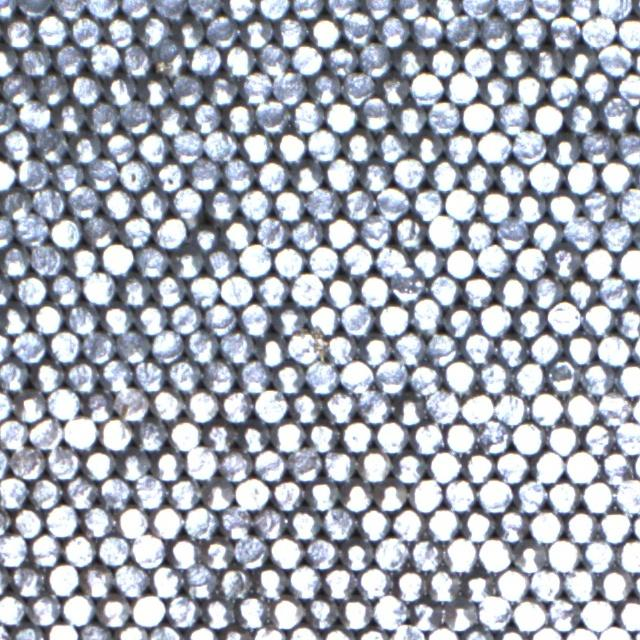tool: (114, 562, 148, 596), (268, 534, 302, 568), (240, 128, 274, 162), (444, 69, 478, 103), (580, 597, 614, 631), (234, 533, 268, 567), (238, 302, 272, 336), (203, 301, 237, 335), (305, 419, 339, 453), (28, 532, 62, 566), (65, 243, 99, 277), (512, 129, 546, 163), (131, 532, 165, 566), (238, 242, 272, 276), (546, 596, 580, 630), (496, 100, 530, 134), (356, 564, 390, 598), (478, 14, 512, 48), (166, 593, 200, 627), (80, 563, 114, 597), (581, 130, 615, 164), (305, 358, 339, 392), (342, 128, 376, 162), (254, 99, 288, 133), (203, 128, 237, 162), (444, 598, 478, 632), (202, 358, 236, 392), (16, 97, 50, 131), (252, 564, 286, 598), (528, 391, 562, 425), (269, 595, 303, 629), (478, 537, 512, 571), (408, 362, 442, 396), (374, 359, 408, 393), (357, 388, 391, 422), (477, 129, 511, 163), (34, 128, 68, 162), (579, 361, 613, 395), (130, 592, 164, 626), (563, 567, 597, 601), (64, 473, 97, 508), (152, 42, 187, 75), (425, 330, 458, 365), (341, 358, 374, 392), (546, 358, 579, 392), (63, 532, 96, 566), (290, 329, 323, 363), (581, 479, 614, 513), (545, 422, 579, 455), (443, 244, 476, 278), (66, 185, 100, 218), (530, 450, 564, 483), (599, 158, 632, 192), (188, 156, 221, 190), (392, 330, 425, 364), (512, 361, 546, 394), (341, 301, 374, 335), (357, 448, 391, 481), (31, 300, 64, 334), (28, 475, 62, 508), (478, 478, 511, 512), (16, 156, 50, 189), (478, 302, 511, 336), (116, 504, 149, 538), (342, 70, 375, 104), (253, 505, 286, 539), (512, 597, 545, 631), (306, 243, 339, 277), (12, 562, 45, 596), (340, 418, 373, 452), (564, 508, 597, 542), (598, 509, 632, 542), (547, 479, 580, 513), (81, 504, 114, 538), (186, 329, 219, 363), (460, 331, 494, 364), (461, 508, 494, 542), (495, 216, 529, 249), (547, 244, 581, 277), (82, 270, 115, 304), (597, 42, 631, 75), (565, 449, 598, 483), (206, 72, 239, 106), (288, 564, 322, 597), (547, 300, 580, 334), (359, 98, 392, 132), (81, 329, 114, 363), (11, 444, 44, 478), (582, 537, 615, 571), (100, 241, 134, 274), (1, 70, 34, 104), (288, 446, 322, 479), (513, 72, 546, 106), (410, 537, 443, 571), (221, 157, 254, 191), (341, 241, 374, 275), (36, 70, 69, 104), (219, 504, 252, 538), (528, 158, 561, 192), (598, 217, 632, 250), (154, 102, 187, 136), (221, 330, 254, 364), (529, 508, 562, 542), (185, 389, 219, 422), (150, 330, 184, 363), (599, 274, 632, 308), (150, 386, 183, 420), (63, 415, 97, 448), (185, 564, 218, 598), (426, 506, 459, 540), (45, 503, 78, 537), (150, 563, 183, 597), (272, 244, 306, 277), (26, 592, 60, 625), (119, 100, 152, 134), (324, 156, 357, 190), (99, 358, 132, 392), (200, 536, 233, 570), (322, 505, 355, 539), (528, 567, 562, 600), (598, 568, 632, 601), (547, 188, 580, 222), (563, 392, 597, 425), (170, 72, 203, 106), (272, 69, 305, 103), (426, 388, 459, 422), (358, 213, 392, 246), (134, 417, 167, 451), (47, 445, 80, 479), (444, 536, 476, 571), (443, 358, 476, 391), (307, 302, 340, 335), (495, 449, 528, 482), (410, 477, 443, 510), (428, 449, 461, 482), (115, 386, 148, 419), (546, 537, 579, 570), (65, 301, 98, 334), (253, 447, 286, 480), (357, 507, 390, 540), (307, 128, 340, 161), (189, 42, 222, 75), (341, 479, 374, 512), (514, 479, 547, 512), (565, 160, 598, 193), (410, 298, 443, 331), (444, 186, 477, 219), (391, 269, 424, 302), (150, 505, 183, 538), (290, 272, 323, 305), (306, 596, 339, 629), (103, 130, 136, 163), (236, 476, 269, 509), (290, 100, 323, 133), (444, 130, 477, 163), (393, 43, 426, 76), (512, 305, 545, 338), (168, 536, 201, 569), (134, 358, 167, 391), (581, 421, 614, 454), (241, 15, 274, 48), (31, 242, 64, 275), (376, 302, 409, 335), (511, 420, 544, 453), (580, 68, 613, 101), (184, 506, 217, 539), (393, 450, 426, 483), (87, 41, 120, 74), (374, 536, 407, 569), (254, 388, 287, 421), (359, 42, 392, 75), (240, 70, 273, 103), (529, 330, 562, 363), (308, 72, 341, 105), (32, 185, 65, 218), (291, 160, 324, 193), (15, 212, 48, 245), (306, 186, 339, 219), (547, 15, 580, 48), (238, 187, 271, 220), (82, 447, 115, 480), (205, 187, 238, 220), (271, 419, 304, 452), (597, 390, 630, 423), (19, 43, 52, 76), (170, 129, 203, 162), (427, 569, 460, 602), (376, 14, 409, 47), (477, 243, 510, 276), (426, 100, 459, 133), (117, 449, 150, 482), (599, 97, 632, 130), (29, 416, 62, 449), (273, 361, 306, 394), (236, 595, 269, 628), (82, 388, 115, 421), (373, 595, 406, 628), (324, 215, 357, 248), (322, 566, 355, 599), (324, 99, 357, 132), (375, 186, 408, 219), (170, 245, 203, 278), (96, 594, 129, 627), (477, 419, 510, 452), (83, 214, 116, 247), (324, 275, 357, 308), (223, 42, 256, 75), (358, 272, 390, 306), (392, 506, 424, 540), (444, 420, 476, 454), (12, 504, 44, 538), (444, 477, 476, 511), (14, 328, 46, 362), (597, 332, 629, 366), (218, 448, 252, 480), (411, 70, 443, 104), (529, 275, 563, 307), (134, 474, 166, 508), (220, 272, 252, 306), (358, 332, 390, 366), (342, 187, 376, 219), (117, 274, 151, 306), (255, 158, 289, 190), (444, 14, 478, 46), (304, 536, 338, 568), (97, 532, 129, 566), (167, 418, 201, 450), (137, 14, 171, 46), (580, 13, 614, 45), (477, 596, 511, 628), (376, 245, 410, 277), (393, 568, 427, 600), (427, 42, 459, 76), (168, 476, 200, 509), (393, 155, 425, 188), (582, 246, 615, 278), (86, 157, 119, 189), (256, 273, 288, 306), (291, 42, 324, 74), (137, 130, 170, 162), (14, 272, 46, 305), (190, 101, 222, 134), (53, 42, 86, 74), (582, 302, 615, 334), (238, 360, 271, 392), (496, 275, 528, 308), (3, 15, 35, 48), (496, 45, 529, 77), (288, 508, 321, 540), (462, 100, 494, 133), (168, 358, 200, 391), (118, 157, 151, 189), (564, 331, 596, 364), (306, 478, 339, 510), (461, 274, 494, 306), (135, 302, 167, 335), (169, 301, 201, 334), (53, 102, 86, 134), (153, 273, 185, 306), (411, 421, 443, 454), (116, 330, 149, 362), (514, 245, 546, 278), (136, 244, 168, 277), (207, 14, 240, 46), (46, 562, 78, 595), (100, 302, 133, 334), (66, 358, 98, 391), (359, 159, 392, 191), (411, 244, 443, 277), (394, 102, 426, 135), (340, 596, 372, 629), (185, 446, 218, 478), (88, 101, 120, 134), (496, 508, 528, 541), (201, 596, 234, 628), (271, 478, 303, 511), (462, 160, 495, 192), (290, 216, 323, 248), (444, 304, 477, 336), (219, 566, 252, 598), (0, 128, 33, 160), (514, 15, 546, 48), (102, 186, 135, 218), (204, 246, 237, 278), (137, 187, 170, 219), (257, 42, 290, 74), (495, 333, 528, 365), (188, 273, 220, 306), (202, 420, 234, 453), (341, 12, 374, 44), (139, 74, 171, 107), (170, 185, 202, 218), (600, 449, 632, 482), (70, 14, 102, 47), (202, 478, 234, 511), (255, 215, 288, 247), (582, 190, 615, 222), (100, 417, 132, 450), (62, 592, 94, 625), (478, 360, 510, 393), (411, 13, 443, 46), (46, 386, 79, 418), (48, 329, 80, 362), (238, 420, 270, 453), (272, 188, 305, 220), (494, 568, 527, 600), (394, 215, 426, 248), (254, 334, 287, 366), (564, 215, 596, 248), (36, 12, 68, 45), (119, 214, 152, 246), (220, 389, 252, 422), (394, 393, 426, 426), (514, 540, 546, 573), (549, 132, 581, 165), (288, 391, 321, 423), (427, 214, 459, 247), (514, 190, 546, 223), (325, 331, 357, 364), (274, 14, 307, 46), (322, 390, 354, 423), (376, 480, 408, 513), (374, 420, 407, 452), (407, 600, 440, 632), (531, 102, 563, 134), (547, 74, 579, 106), (530, 46, 562, 78), (496, 160, 528, 192), (565, 276, 597, 308), (565, 102, 597, 134), (378, 73, 410, 105), (221, 217, 253, 249), (154, 216, 186, 248), (309, 15, 341, 47), (154, 158, 186, 190), (480, 73, 512, 105), (462, 44, 494, 76), (32, 360, 64, 392), (52, 159, 84, 191), (462, 216, 494, 248), (463, 450, 495, 482), (495, 392, 527, 424), (411, 187, 443, 219), (564, 46, 596, 78), (340, 539, 372, 571), (428, 158, 460, 190), (529, 217, 561, 249), (412, 130, 444, 162), (323, 449, 355, 481), (427, 272, 459, 304), (13, 390, 45, 422), (480, 189, 512, 221), (70, 72, 102, 104), (49, 215, 81, 247), (70, 132, 102, 164), (120, 44, 152, 76), (151, 448, 183, 480), (188, 220, 220, 252), (274, 130, 306, 162), (48, 272, 80, 304), (461, 392, 493, 424), (98, 476, 130, 508), (377, 130, 409, 162), (223, 102, 255, 134), (174, 15, 206, 47), (273, 304, 305, 336), (326, 43, 358, 75), (0, 186, 31, 219), (105, 14, 136, 46), (462, 571, 494, 602), (105, 74, 136, 105), (0, 244, 30, 276), (0, 302, 30, 334), (0, 358, 29, 390), (0, 416, 28, 449), (0, 532, 27, 566), (0, 475, 27, 508), (615, 419, 640, 454), (615, 478, 640, 512), (0, 592, 26, 624), (616, 71, 640, 104), (616, 362, 640, 395), (617, 538, 640, 572), (617, 597, 640, 631), (617, 130, 640, 164), (617, 15, 640, 48), (617, 188, 640, 221), (617, 306, 640, 338), (618, 247, 640, 280), (428, 0, 461, 22), (394, 0, 427, 20), (223, 0, 256, 20), (78, 621, 112, 640), (496, 0, 530, 19), (153, 0, 187, 19), (44, 621, 78, 640), (530, 0, 562, 20), (564, 0, 596, 20), (0, 44, 19, 77), (257, 0, 290, 19), (114, 622, 148, 640), (188, 0, 222, 18), (11, 622, 44, 640), (598, 0, 631, 18), (361, 0, 394, 18), (325, 0, 358, 18), (390, 623, 424, 640), (252, 623, 286, 640), (148, 623, 182, 640), (291, 0, 323, 18), (120, 0, 152, 18), (185, 623, 218, 640), (86, 0, 119, 17), (462, 0, 495, 17), (288, 623, 320, 640), (54, 0, 86, 17), (18, 0, 50, 17), (0, 100, 16, 132), (598, 625, 632, 640), (564, 625, 598, 640), (356, 625, 390, 640), (529, 625, 562, 640), (218, 625, 251, 640), (426, 625, 459, 640), (0, 158, 15, 190), (0, 214, 14, 246), (0, 272, 13, 305)
